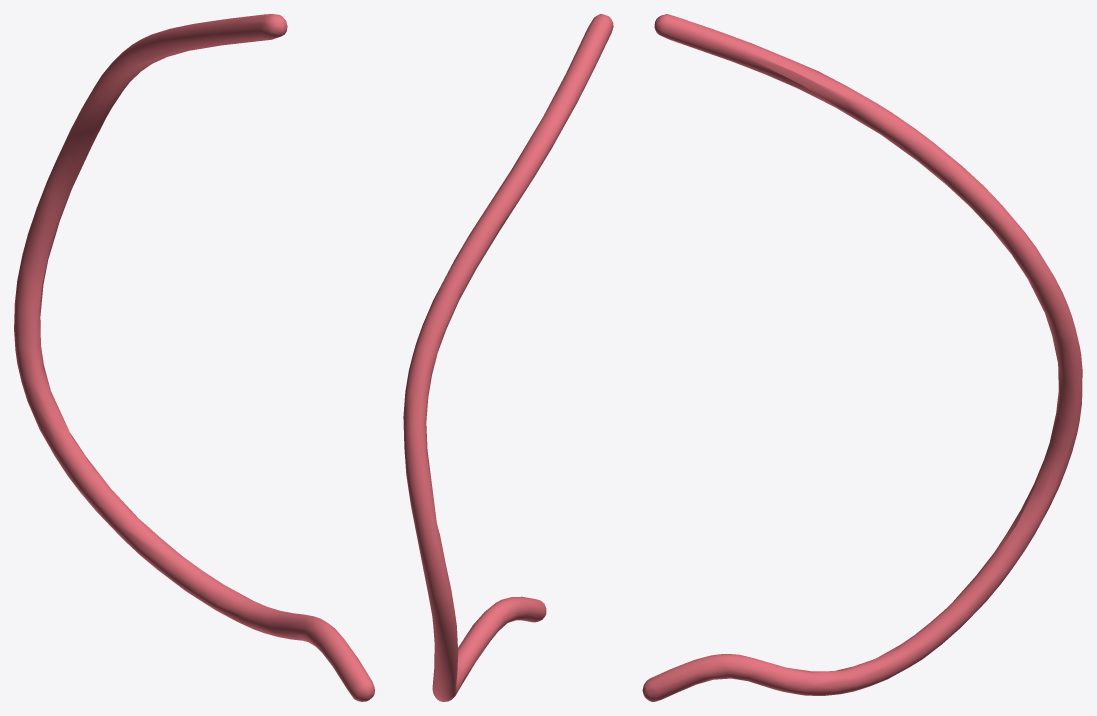
Rendered from fma50685_fj5079m.glb.
3 views of the same model, side by side, from view 1: azimuth 30°, elevation 25°; view 2: azimuth 150°, elevation 25°; view 3: azimuth 270°, elevation 25° (orthographic). The views are drawn at different scales.
Visible parts, largest first — view 1: FMA50685_FJ5079M; view 2: FMA50685_FJ5079M; view 3: FMA50685_FJ5079M.
Part boxes in pixels (x1,y1,x2,y2): FMA50685_FJ5079M: [14, 14, 374, 701]; FMA50685_FJ5079M: [403, 14, 613, 701]; FMA50685_FJ5079M: [642, 14, 1082, 701].
Bounding box in the file's own units: 0.00586 × 0.0286 × 0.0176.
